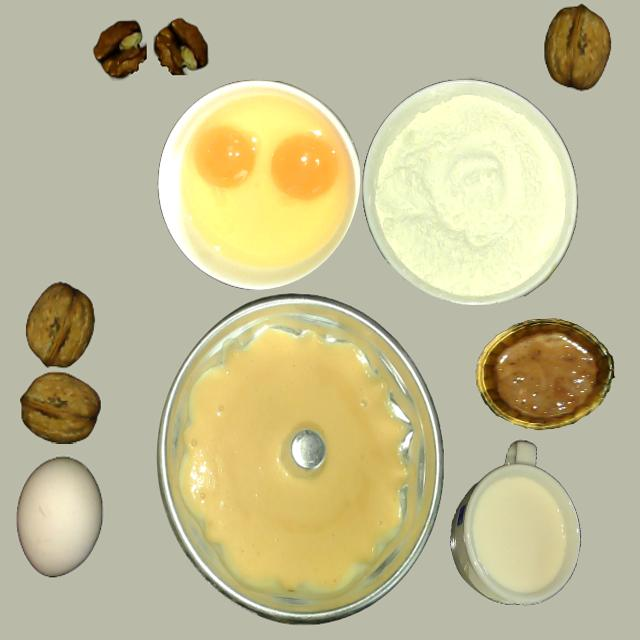Egg: (271, 133, 338, 200), (194, 125, 258, 190)
Flour: (361, 80, 575, 305)
Milk: (451, 443, 582, 609)
Walnut: (25, 284, 94, 368), (19, 372, 99, 444), (544, 4, 610, 90)
